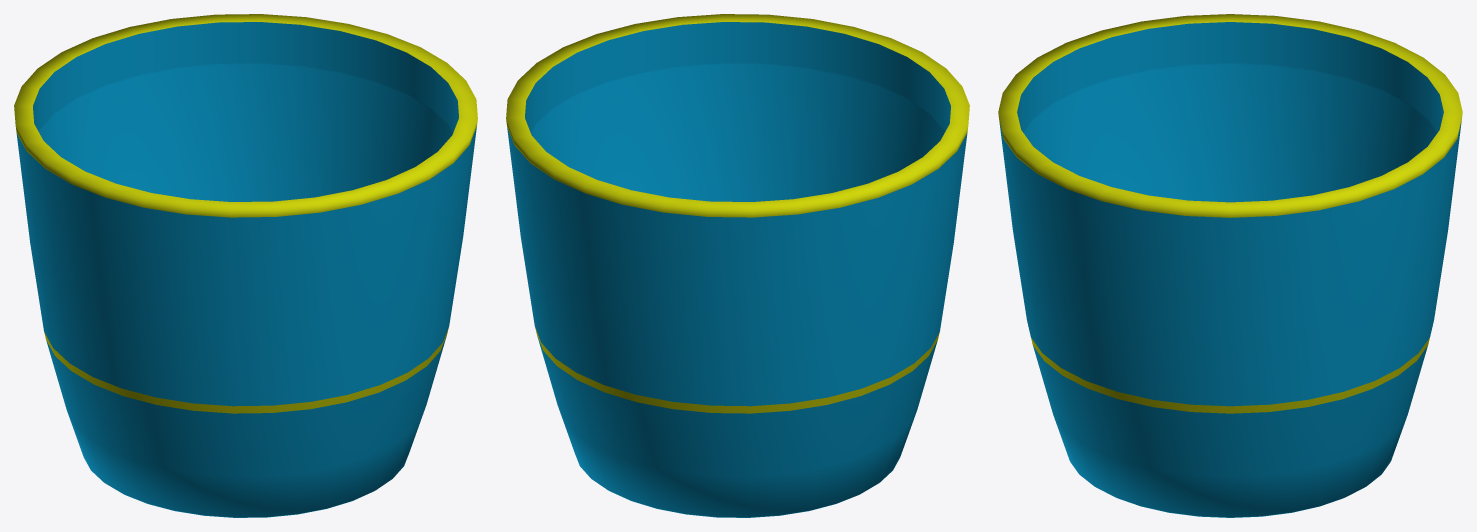
Rendered from Potter1.fbx.
3 views of the same model, side by side, from view 1: azimuth 30°, elevation 25°; view 2: azimuth 150°, elevation 25°; view 3: azimuth 270°, elevation 25° (orthographic).
Parts seen in each view (by area): view 1: Circle.002, Circle.017; view 2: Circle.002, Circle.017; view 3: Circle.002, Circle.017.
Boxes of the visible parts, x1,y1,x2,y2 form: Circle.002: (16, 22, 476, 517); Circle.017: (14, 14, 477, 413); Circle.002: (507, 22, 967, 517); Circle.017: (506, 14, 969, 413); Circle.002: (999, 22, 1461, 517); Circle.017: (998, 14, 1462, 413).
Bounding box in the file's own units: 127 × 102 × 127.
